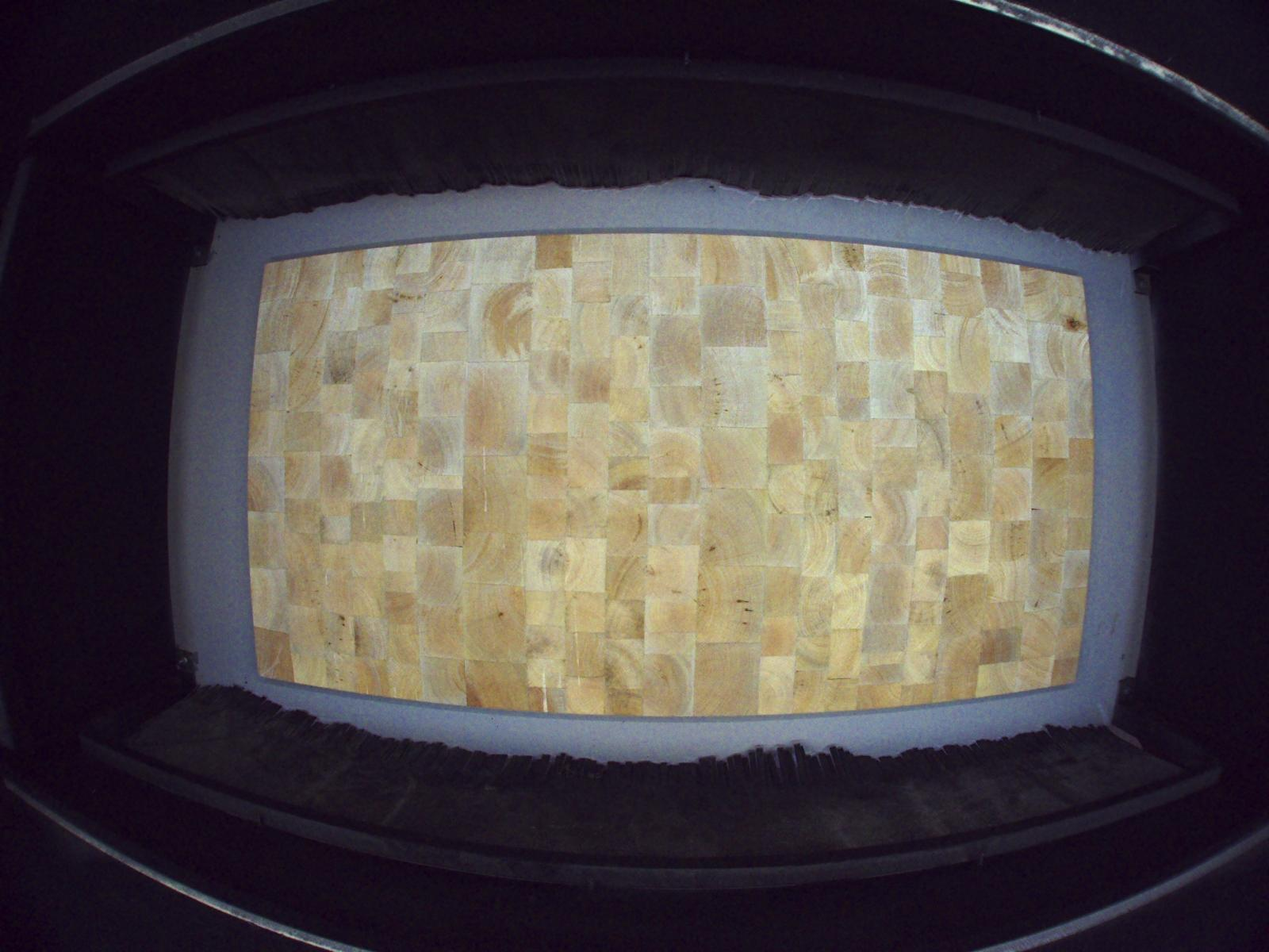nudillo: (1063, 316, 1089, 333)
